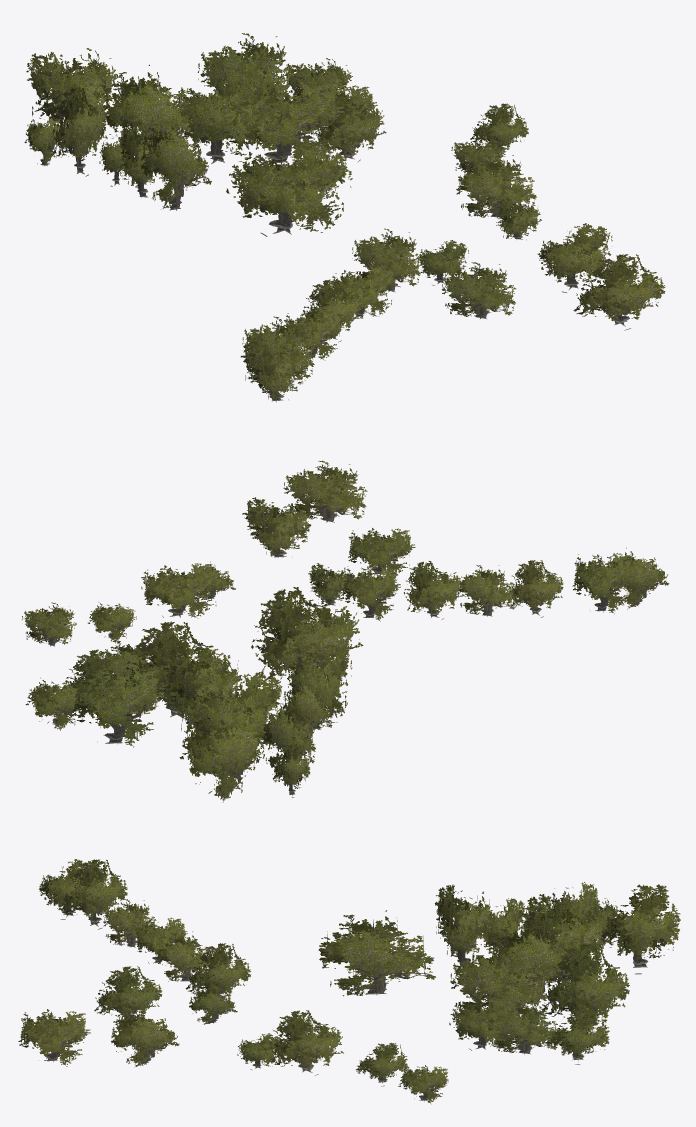
3 views of the same model, one above another, from view 1: azimuth 30°, elevation 25°; view 2: azimuth 150°, elevation 25°; view 3: azimuth 270°, elevation 25° (orthographic). The views are drawn at different scales.
Parts seen in each view (by area): view 1: geometry_0; view 2: geometry_0; view 3: geometry_0.
Part boxes in pixels (box(x1,y1,x2,y2)): geometry_0: box(24, 33, 665, 402); geometry_0: box(22, 460, 669, 802); geometry_0: box(18, 859, 680, 1104).
Size of the model in its own units: 101 by 17.56 by 134.
1 material, 1 textured.
